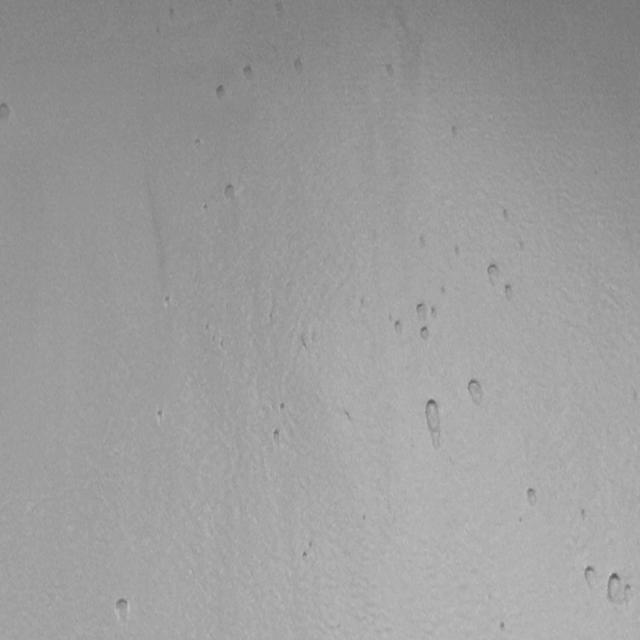pin holes: (418, 398, 446, 453), (603, 572, 628, 606), (465, 378, 487, 408), (114, 596, 136, 625), (579, 563, 600, 593), (524, 486, 544, 511), (299, 326, 319, 351), (484, 262, 503, 288), (621, 578, 637, 607), (221, 183, 240, 206), (240, 62, 259, 85), (382, 61, 401, 84), (289, 55, 308, 76), (416, 325, 434, 347), (415, 230, 433, 252), (214, 82, 231, 104), (414, 300, 430, 322), (502, 284, 518, 306), (1, 101, 14, 126), (154, 406, 169, 426), (393, 318, 407, 339), (270, 427, 284, 447), (166, 6, 180, 24), (579, 506, 592, 524), (501, 206, 514, 224), (300, 549, 314, 565), (498, 619, 511, 636), (162, 294, 175, 310), (452, 243, 464, 259), (276, 401, 288, 416), (193, 135, 205, 150), (431, 307, 442, 321), (200, 202, 210, 215)
